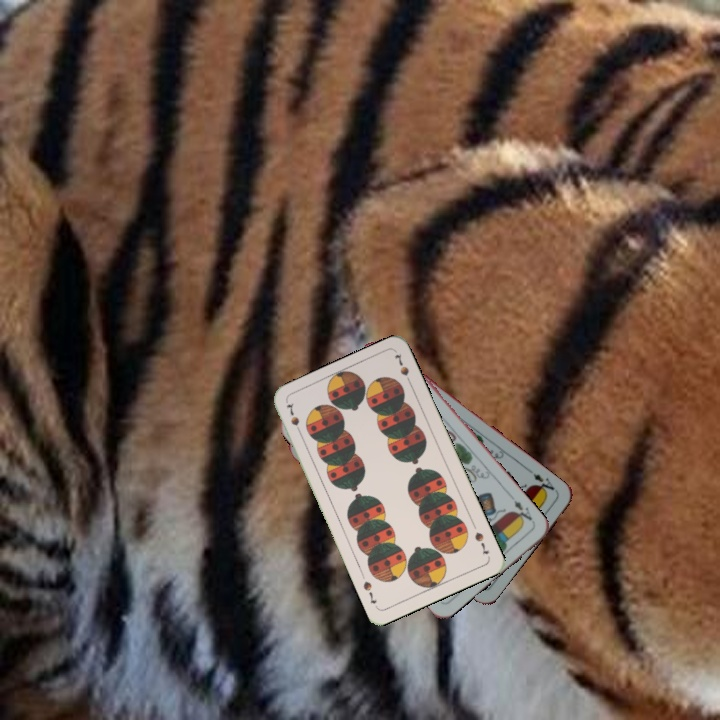EA: (529, 469, 560, 497), (509, 496, 537, 526)
S7: (283, 399, 304, 438), (471, 528, 492, 557)
